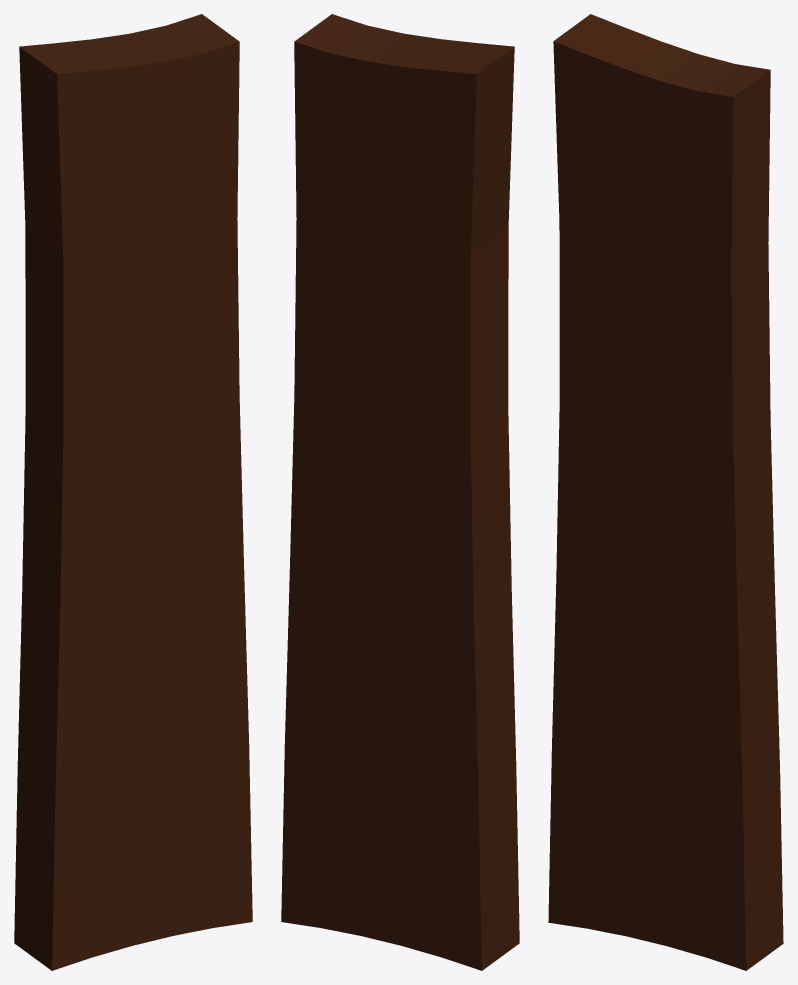
File: Plank1.fbx
3 renders of one model, left to right at view 1: azimuth 30°, elevation 25°; view 2: azimuth 150°, elevation 25°; view 3: azimuth 330°, elevation 25°, orthographic.
Visible parts, largest first — view 1: Box013; view 2: Box013; view 3: Box013.
Part boxes in pixels (box(x1,y1,x2,y2)): Box013: box(14, 14, 252, 970); Box013: box(281, 14, 519, 970); Box013: box(548, 14, 783, 970).
Bounding box in the file's own units: 6.87 × 2.24 × 29.29.
